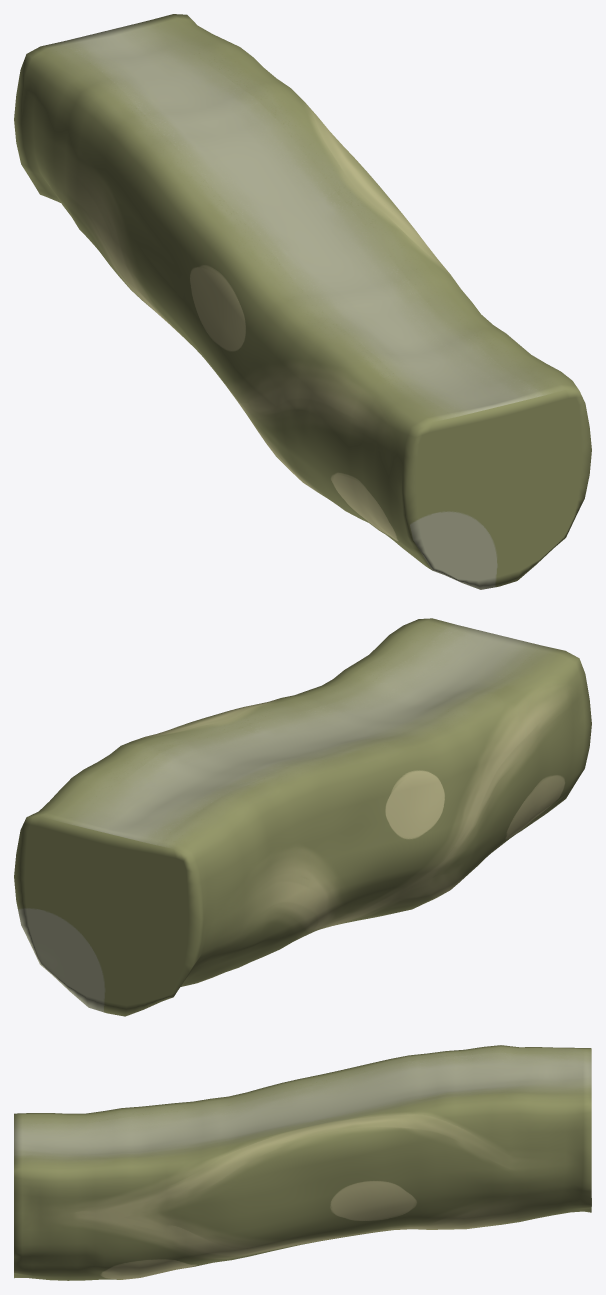
File: StarPathStraightRamp.fbx
3 views of the same model, one above another, from view 1: azimuth 30°, elevation 25°; view 2: azimuth 150°, elevation 25°; view 3: azimuth 270°, elevation 25° (orthographic). The views are drawn at different scales.
Visible parts, largest first — view 1: StarPathStraightRamp; view 2: StarPathStraightRamp; view 3: StarPathStraightRamp.
Part boxes in pixels (<box>): StarPathStraightRamp: <box>14,14,591,589</box>; StarPathStraightRamp: <box>14,618,591,1016</box>; StarPathStraightRamp: <box>14,1045,591,1280</box>.
Size of the model in its own units: 242 by 309 by 800.
1 material, 1 textured.
